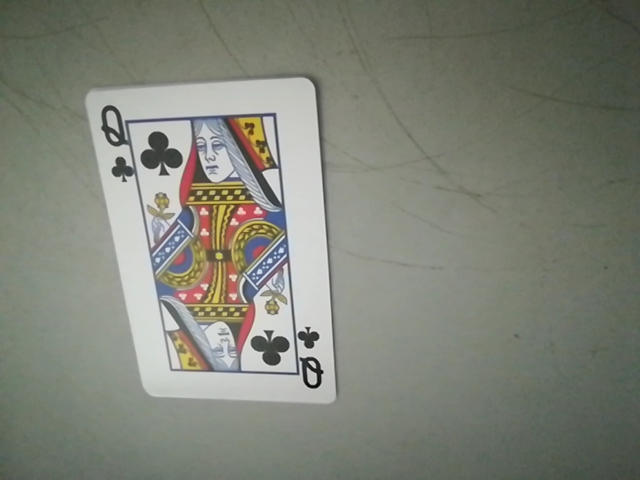mh q: (92, 105, 142, 182), (286, 331, 329, 395)
